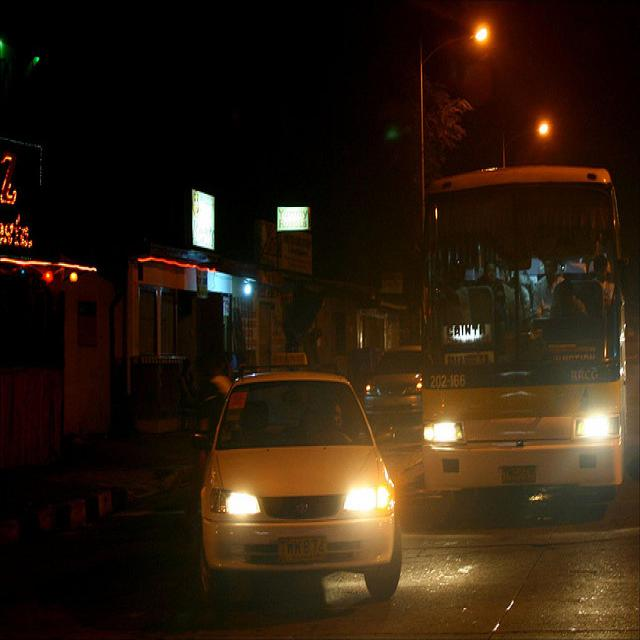Bus: (416, 156, 640, 542)
car: (190, 349, 409, 594), (366, 316, 423, 432)
